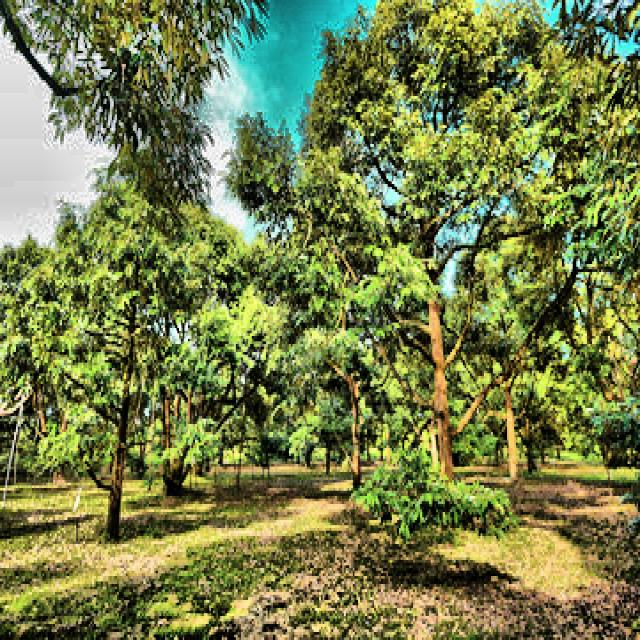arvore: (97, 204, 152, 558), (412, 192, 462, 521), (336, 319, 379, 523), (495, 266, 531, 497)
